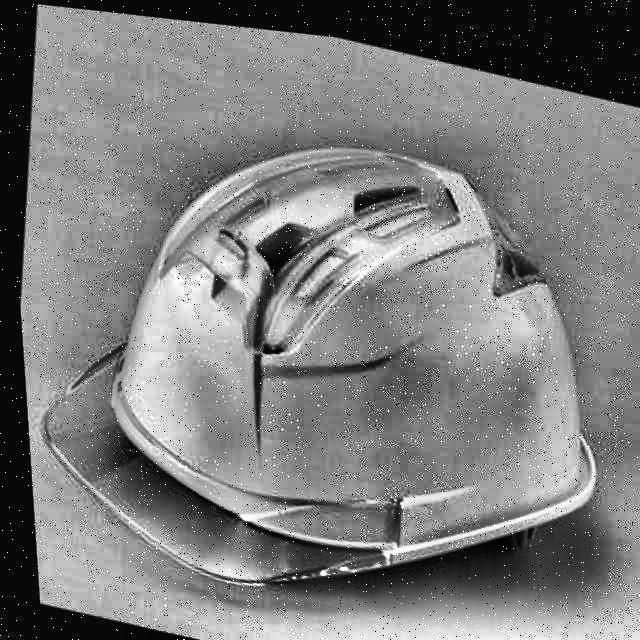Helmet: (3, 57, 640, 640)
